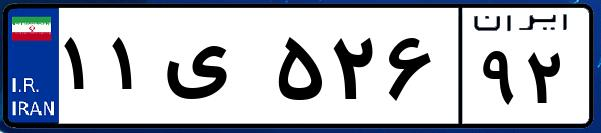1: (57, 26, 110, 100), (110, 28, 158, 98)
2: (330, 28, 385, 110), (525, 38, 570, 115)
5: (270, 28, 330, 110)
6: (385, 28, 445, 110)
9: (475, 38, 525, 113)
ی: (158, 20, 270, 120)
